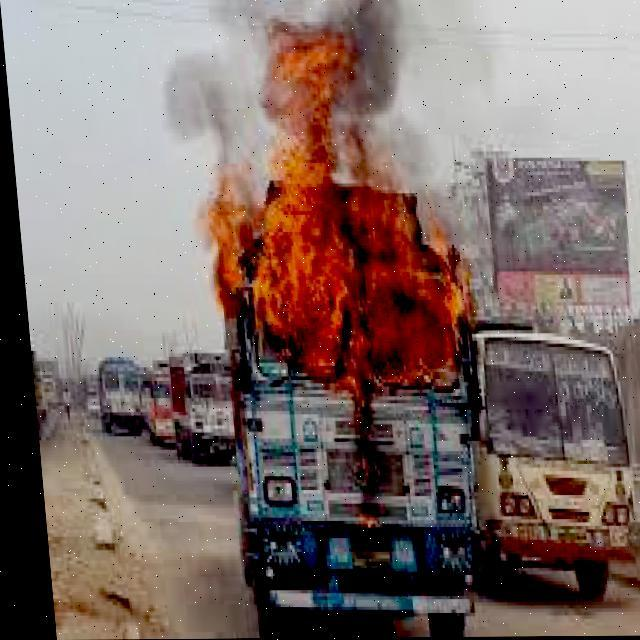Fire: (178, 35, 474, 405)
